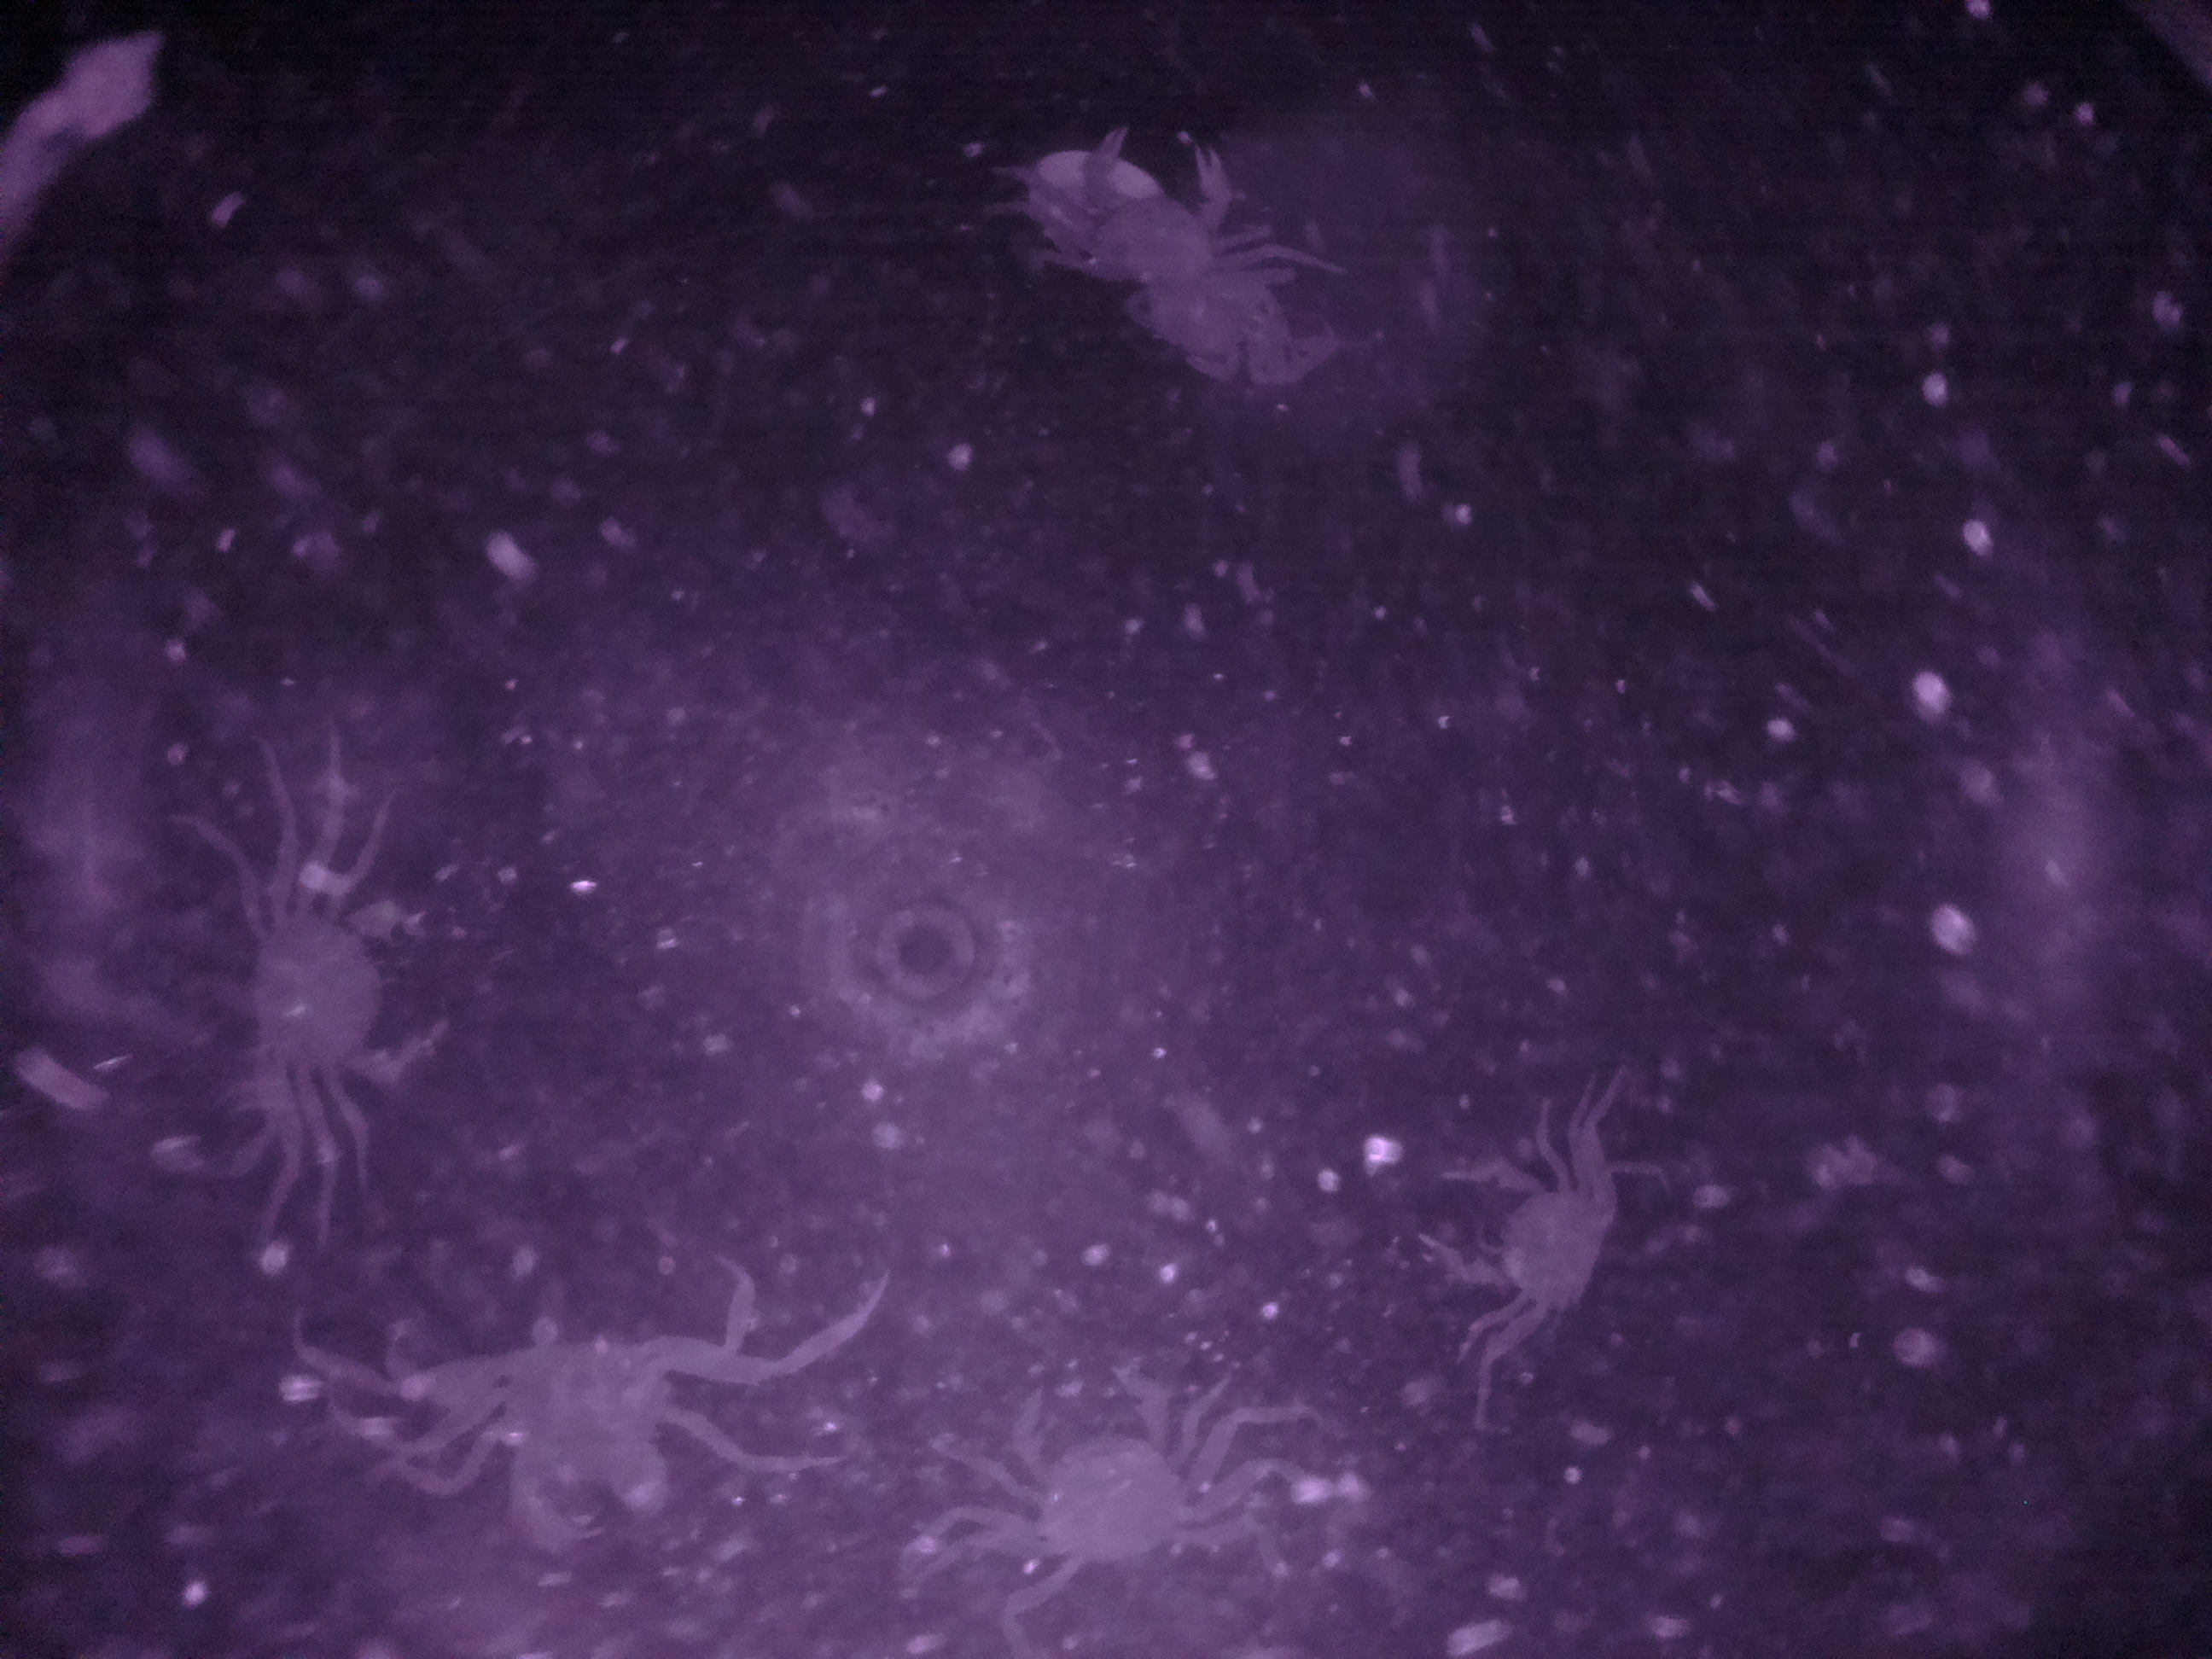Crab: (944, 1352, 1254, 1596), (1372, 1148, 1665, 1338)
